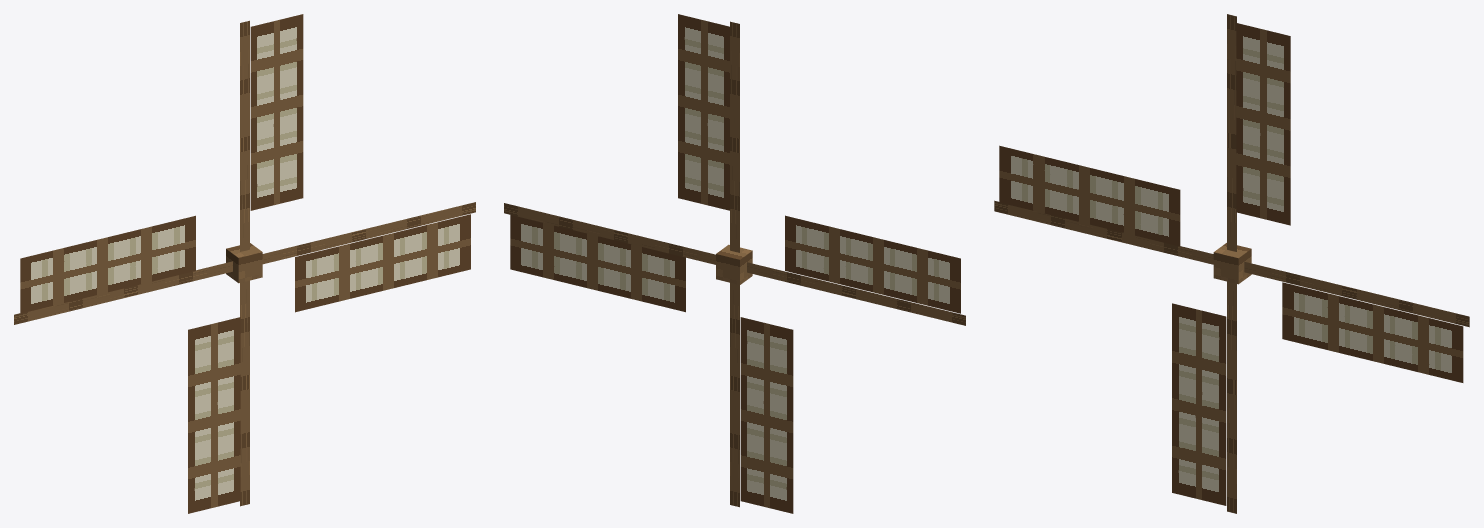
File: windmill_sails.glb
The picture shows the model from 3 angles, left to right: view 1: azimuth 30°, elevation 25°; view 2: azimuth 150°, elevation 25°; view 3: azimuth 330°, elevation 25°; orthographic projection. The views are drawn at different scales.
Visible parts, largest first — view 1: windmill_sails; view 2: windmill_sails; view 3: windmill_sails.
Boxes of the visible parts, bbox=[...] form: windmill_sails: bbox=[14, 14, 475, 513]; windmill_sails: bbox=[504, 14, 965, 513]; windmill_sails: bbox=[994, 14, 1469, 513].
Size of the model in its own units: 8.4 by 8.4 by 0.4.
Materials: 2 (2 with a texture image).
